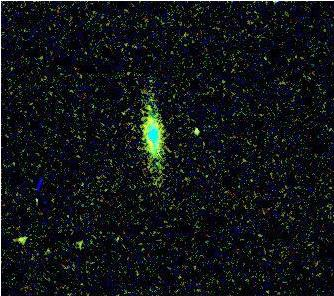star: (183, 116, 213, 146)
